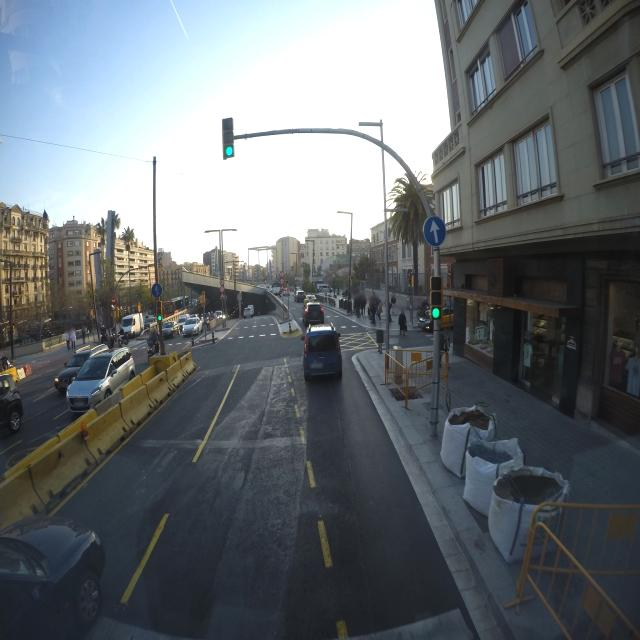car: (0, 523, 106, 639), (67, 356, 121, 414), (301, 324, 343, 380), (0, 373, 24, 450), (54, 353, 92, 395), (302, 302, 325, 326), (182, 318, 201, 337), (176, 314, 188, 334), (161, 322, 176, 338), (294, 290, 306, 303), (243, 304, 254, 318), (273, 286, 281, 296)
